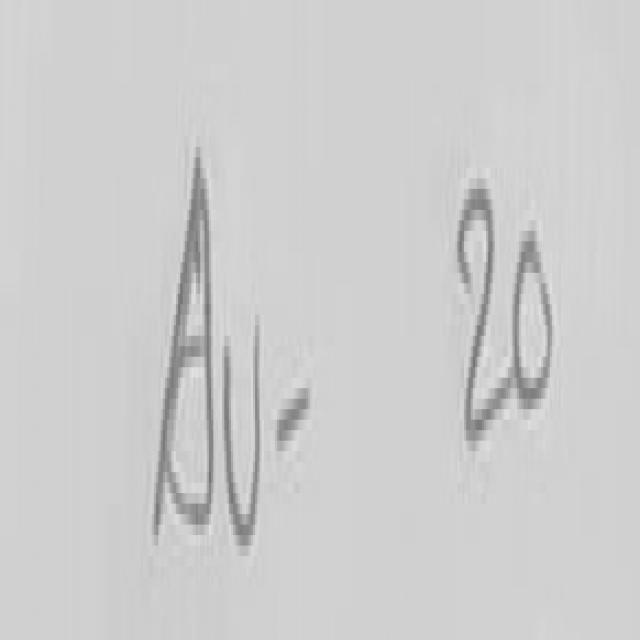0: (515, 231, 554, 404)
2: (460, 189, 512, 435)
A: (154, 157, 213, 539)
u: (225, 330, 260, 540)
